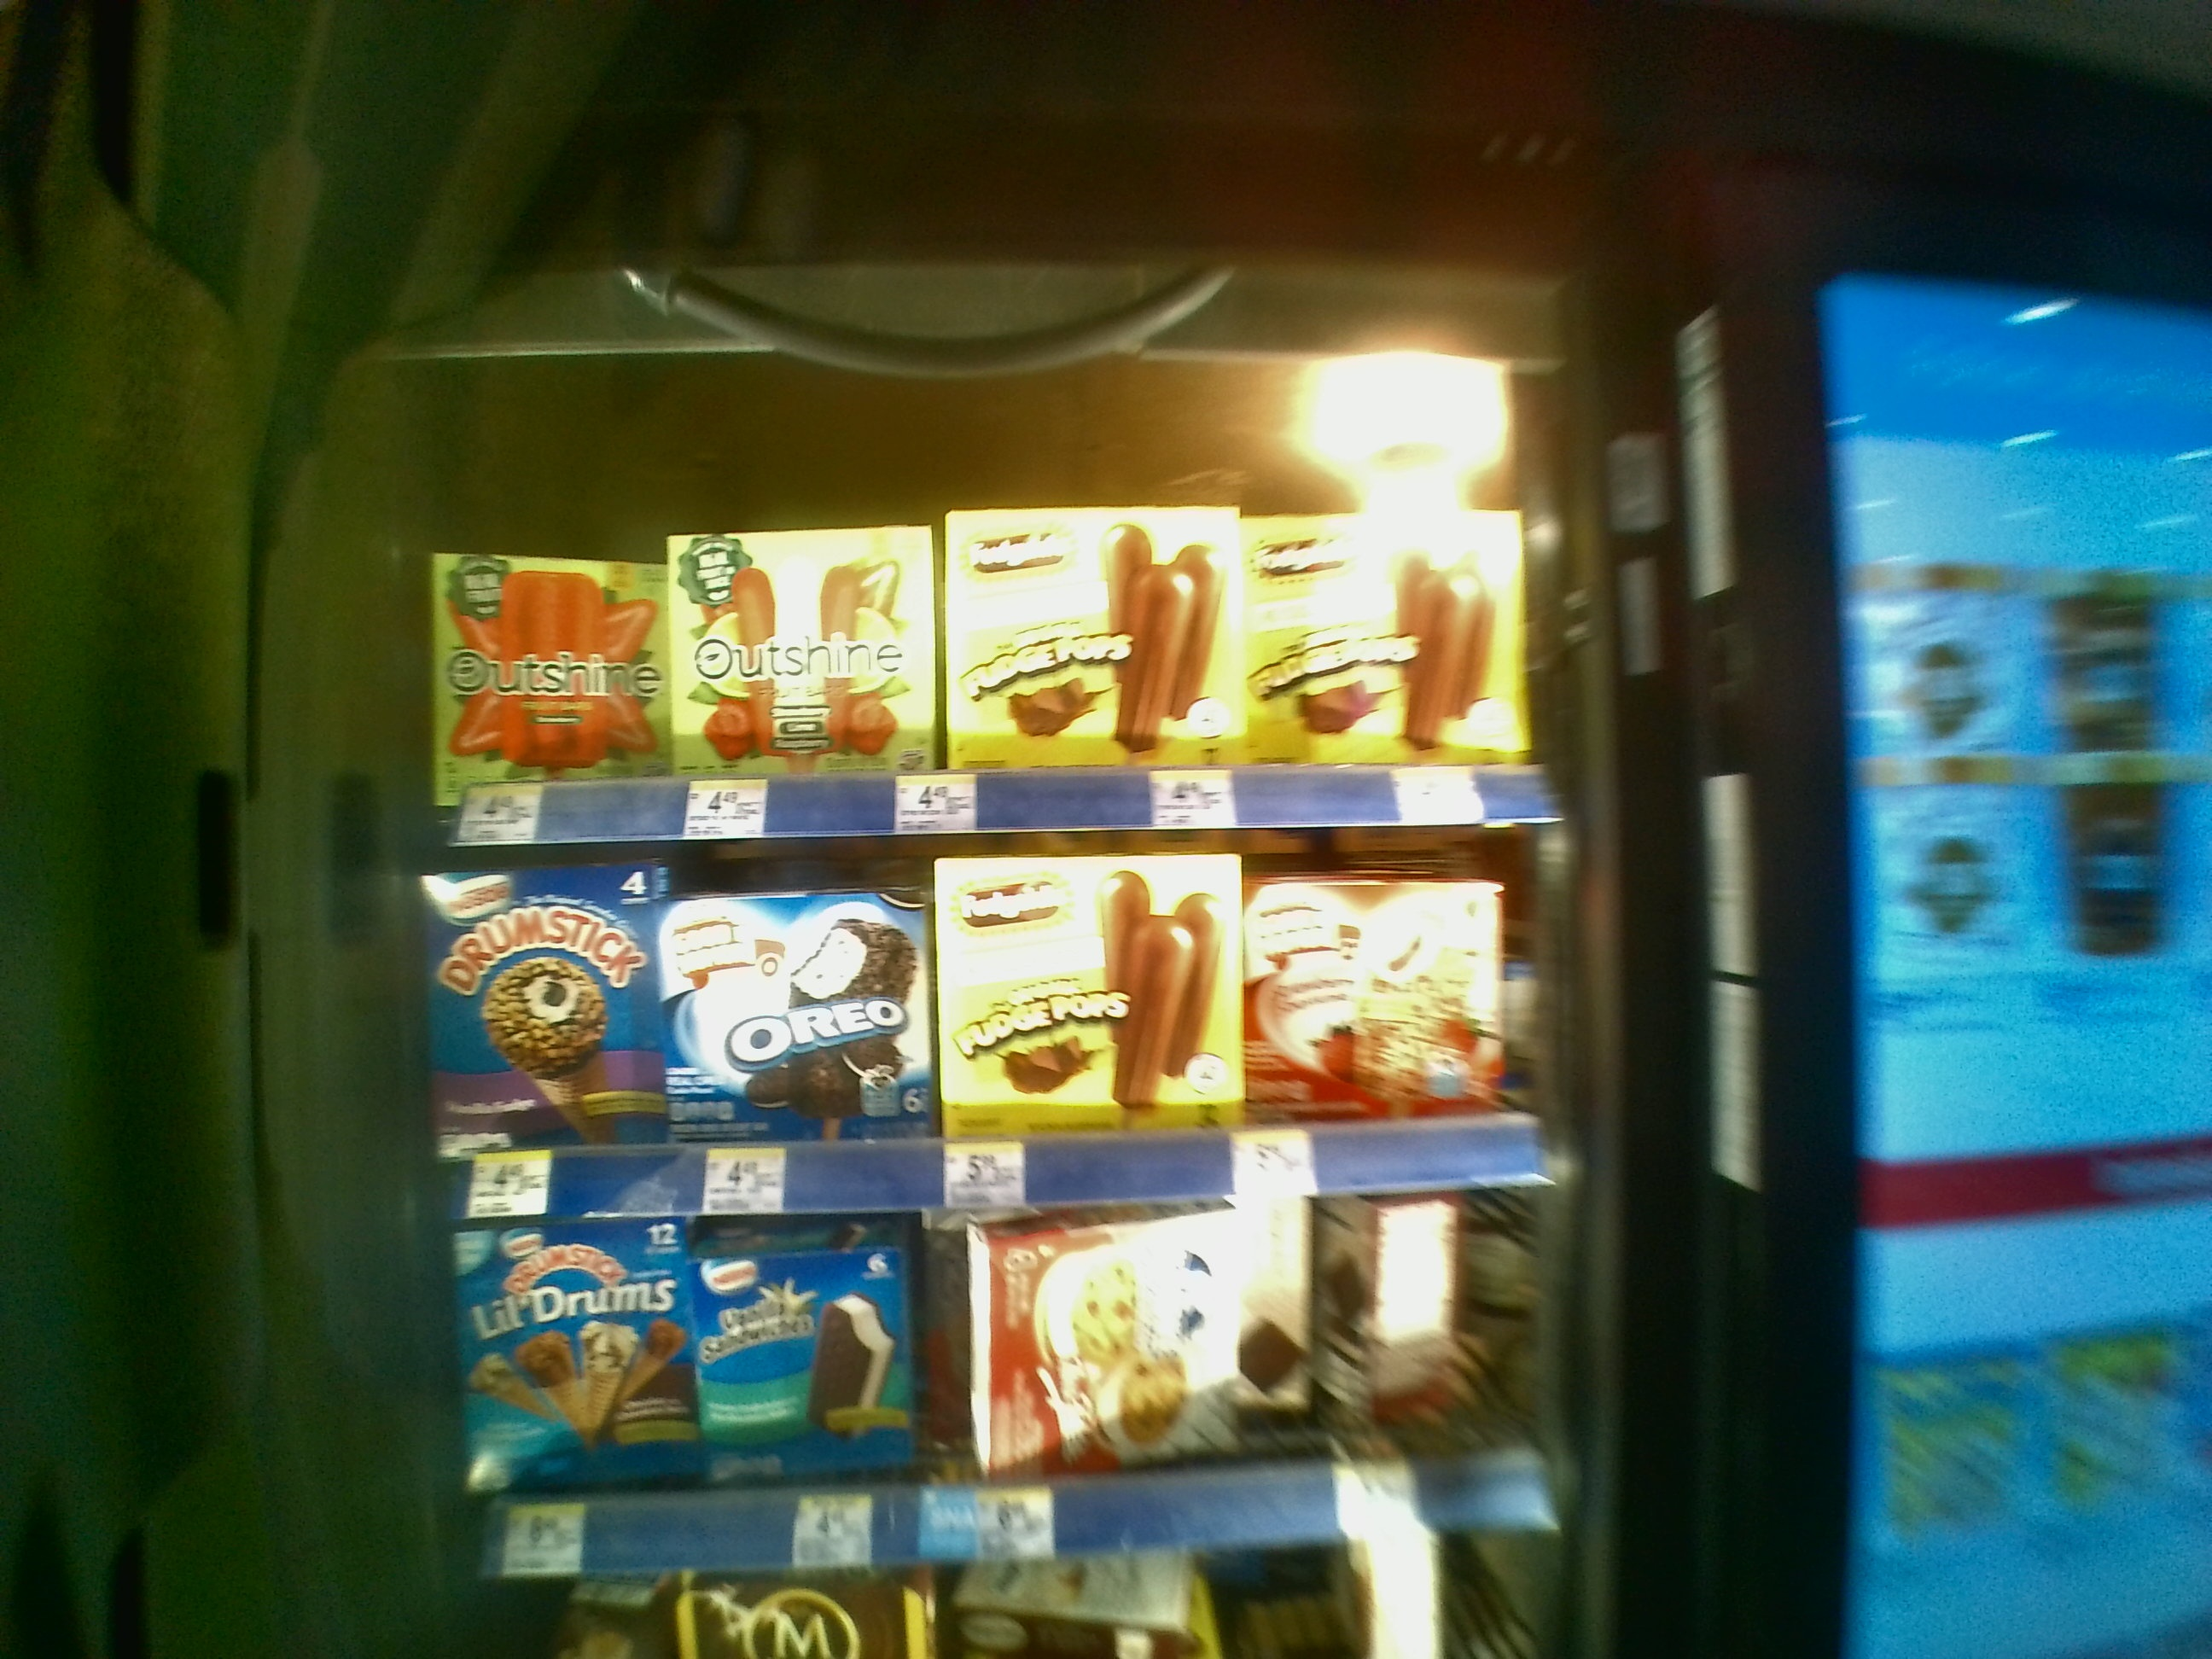shelf: (395, 446, 1543, 829), (401, 847, 1559, 1213), (409, 1229, 1555, 1588)
